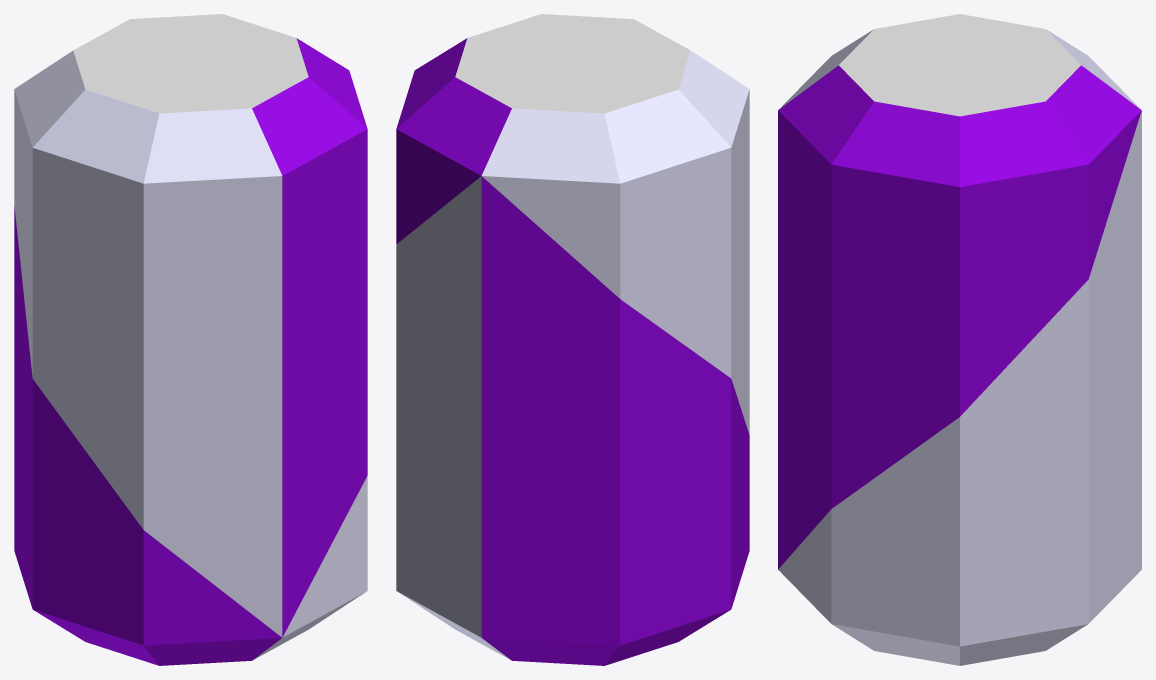
The model's file is EnergyDrink.fbx.
3 views of the same model, side by side, from view 1: azimuth 30°, elevation 25°; view 2: azimuth 150°, elevation 25°; view 3: azimuth 270°, elevation 25° (orthographic).
Visible parts, largest first — view 1: EnergyDrink; view 2: EnergyDrink; view 3: EnergyDrink.
Part boxes in pixels (left/top/right/bottom): EnergyDrink: left=14, top=14, right=367, bottom=665; EnergyDrink: left=396, top=14, right=749, bottom=665; EnergyDrink: left=778, top=14, right=1141, bottom=665.
Bounding box in the file's own units: 0.09 × 0.15 × 0.09.
